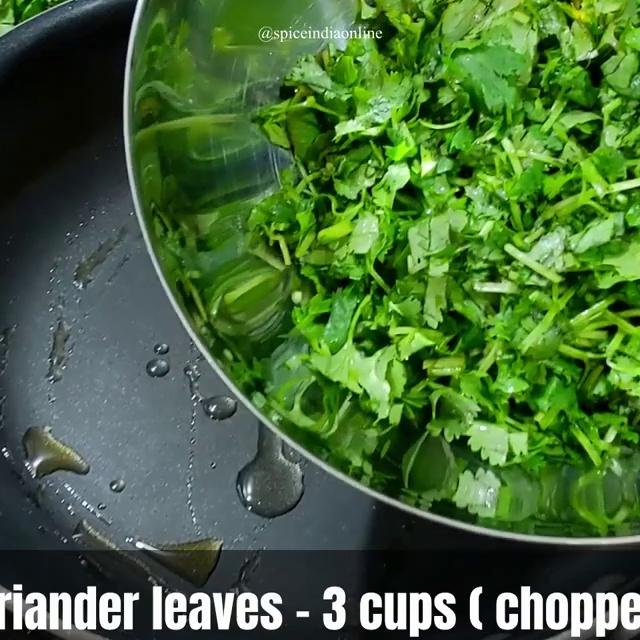cilantro: (284, 0, 640, 445)
